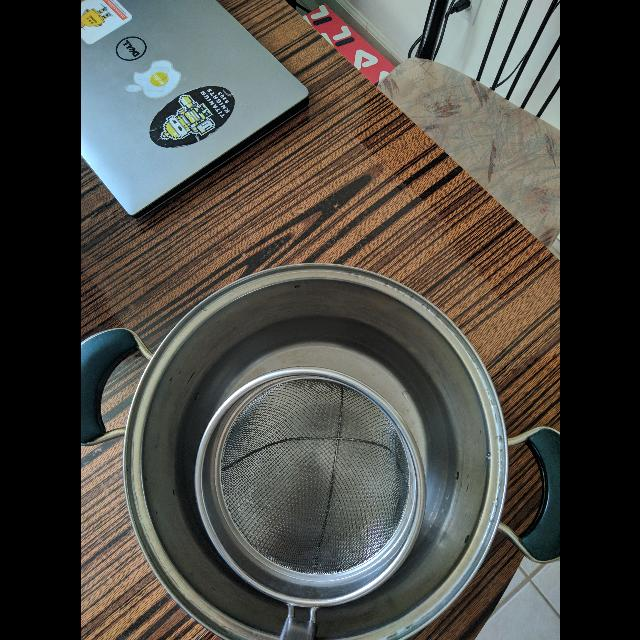Strainer: (200, 373, 432, 606)
